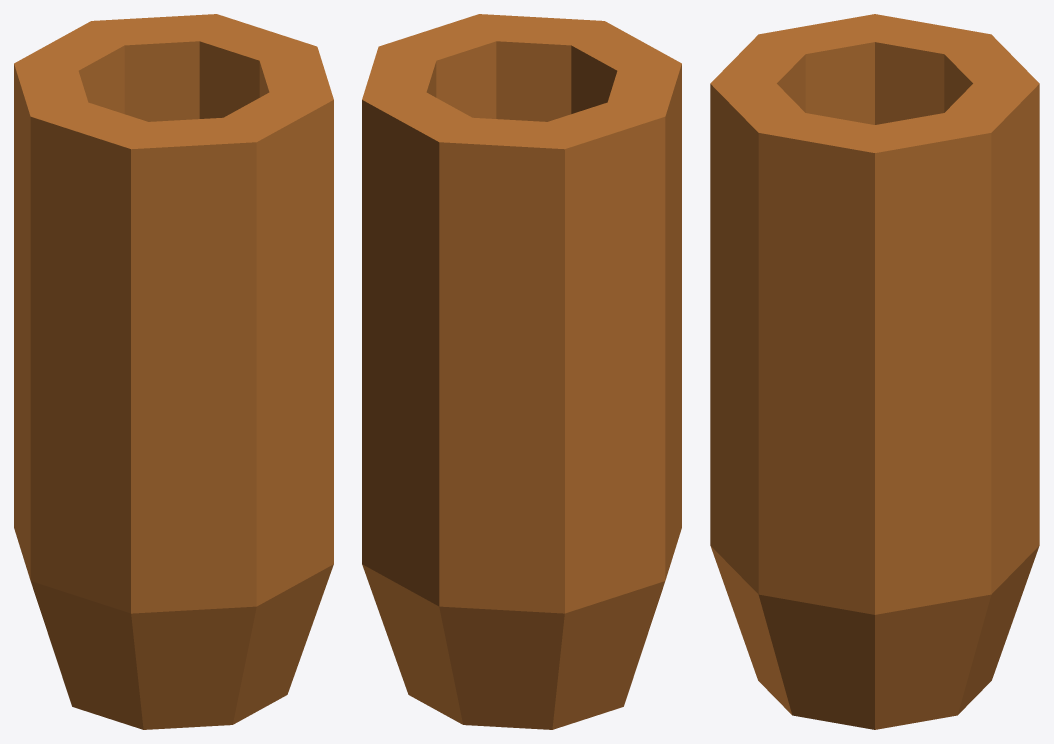
The model's file is bun.fbx.
3 views of the same model, side by side, from view 1: azimuth 30°, elevation 25°; view 2: azimuth 150°, elevation 25°; view 3: azimuth 270°, elevation 25° (orthographic).
Parts seen in each view (by area): view 1: Bun; view 2: Bun; view 3: Bun.
Boxes of the visible parts, box(x1,y1,x2,y2) form: Bun: box(14, 14, 333, 729); Bun: box(362, 14, 681, 729); Bun: box(710, 14, 1039, 729).
Size of the model in its own units: 0.2 by 0.4 by 0.2.
